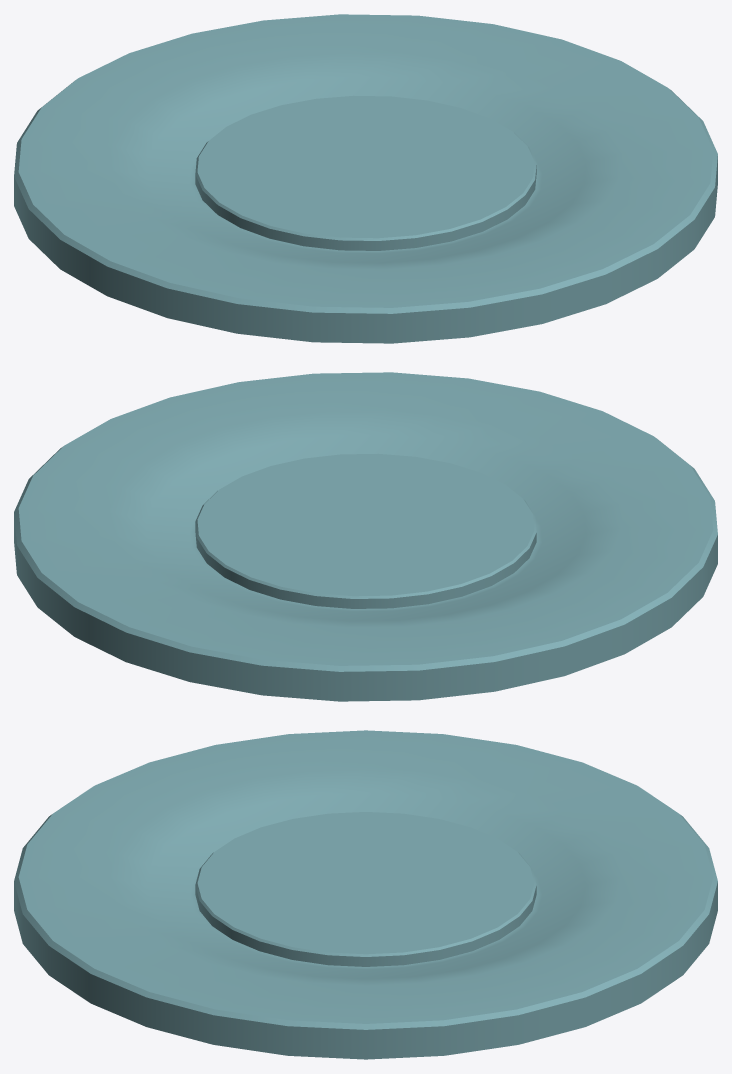
Rendered from table_drum.fbx.
3 views of the same model, one above another, from view 1: azimuth 30°, elevation 25°; view 2: azimuth 150°, elevation 25°; view 3: azimuth 270°, elevation 25° (orthographic).
Parts seen in each view (by area): view 1: table_drum; view 2: table_drum; view 3: table_drum.
Boxes of the visible parts, left/top/right/bottom form: table_drum: left=14, top=14, right=717, bottom=343; table_drum: left=14, top=372, right=717, bottom=701; table_drum: left=14, top=730, right=717, bottom=1059.
Bounding box in the file's own units: 167 × 8.81 × 167.
